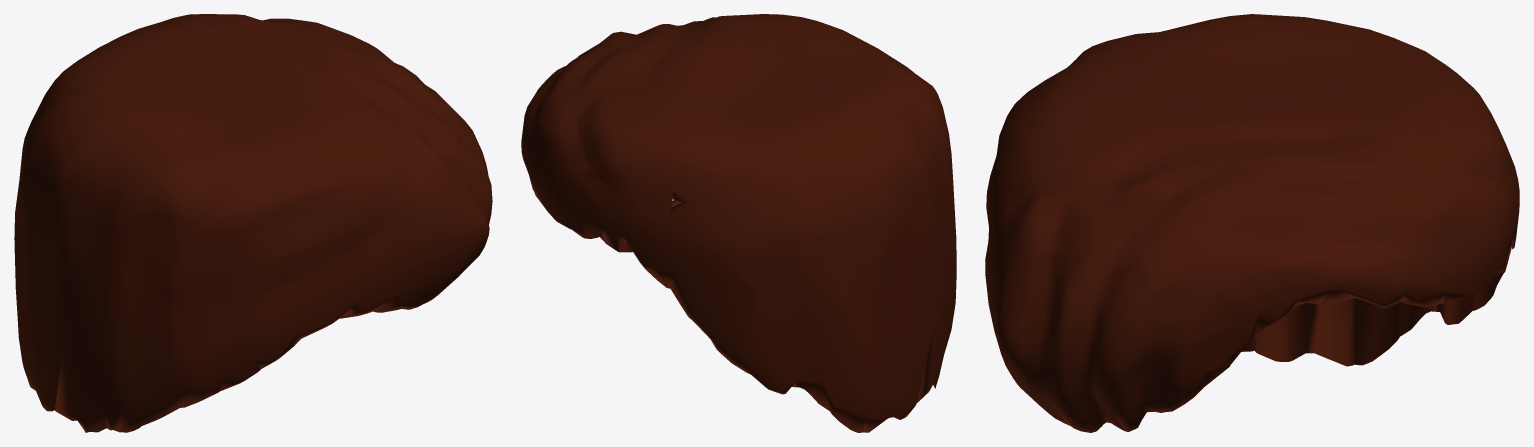
File: boyhair.glb
3 renders of one model, left to right at view 1: azimuth 30°, elevation 25°; view 2: azimuth 150°, elevation 25°; view 3: azimuth 270°, elevation 25°, orthographic. The views are drawn at different scales.
Visible parts, largest first — view 1: BoyHair; view 2: BoyHair; view 3: BoyHair.
Boxes of the visible parts, left/top/right/bottom form: BoyHair: left=14, top=14, right=492, bottom=432; BoyHair: left=521, top=14, right=956, bottom=432; BoyHair: left=985, top=14, right=1519, bottom=432.
Bounding box in the file's own units: 1.08 × 0.8049 × 1.01.
